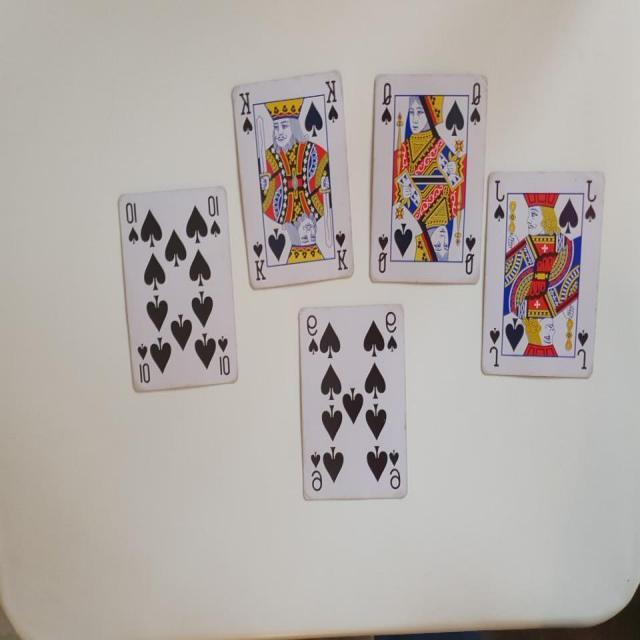10 of spades: (115, 178, 244, 402)
9 of spades: (294, 296, 410, 510)
jack of spades: (479, 166, 612, 384)
king of spades: (228, 66, 362, 292)
queen of spades: (368, 62, 492, 281)
